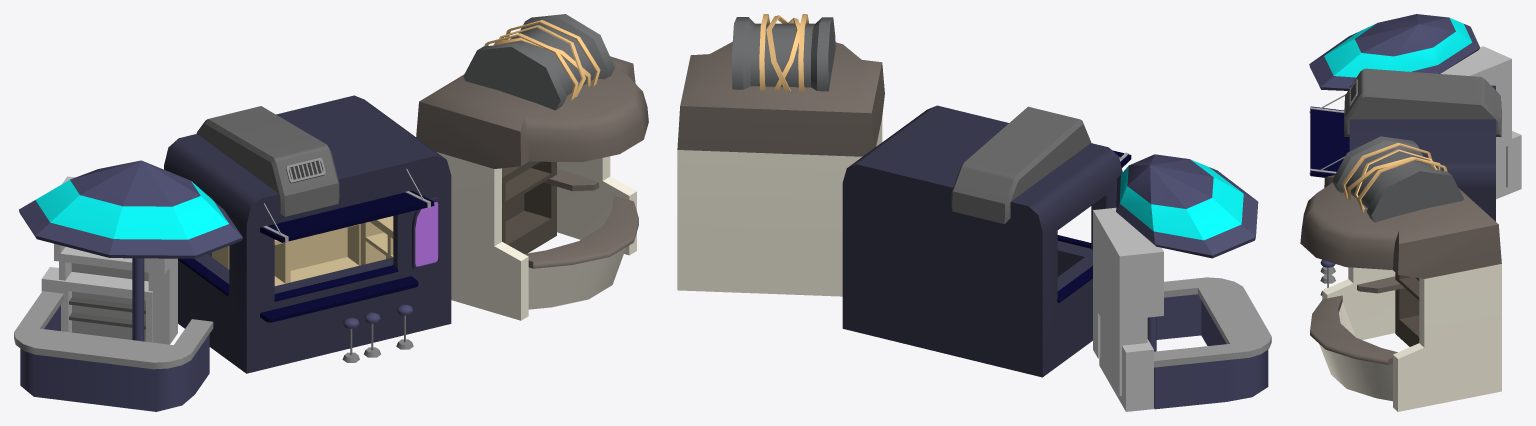
The model's file is Lower_Plaza_Foodstands_Center.fbx.
3 views of the same model, side by side, from view 1: azimuth 30°, elevation 25°; view 2: azimuth 150°, elevation 25°; view 3: azimuth 270°, elevation 25° (orthographic). The views are drawn at different scales.
Visible parts, largest first — view 1: Lower_Plaza_Foodstands_Center; view 2: Lower_Plaza_Foodstands_Center; view 3: Lower_Plaza_Foodstands_Center.
Part boxes in pixels (x1,y1,x2,y2): Lower_Plaza_Foodstands_Center: [14, 14, 648, 411]; Lower_Plaza_Foodstands_Center: [677, 14, 1271, 411]; Lower_Plaza_Foodstands_Center: [1300, 14, 1521, 411].
Bounding box in the file's own units: 48.78 × 19.17 × 17.42.
